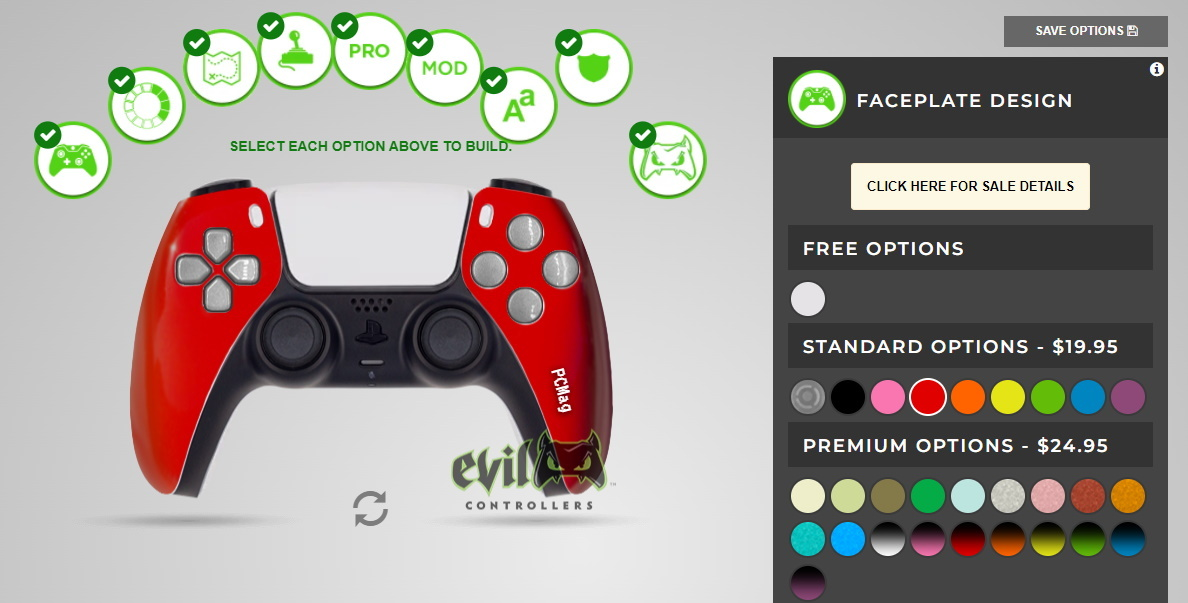controller: (130, 177, 616, 497), (49, 143, 98, 179), (798, 85, 836, 113)
